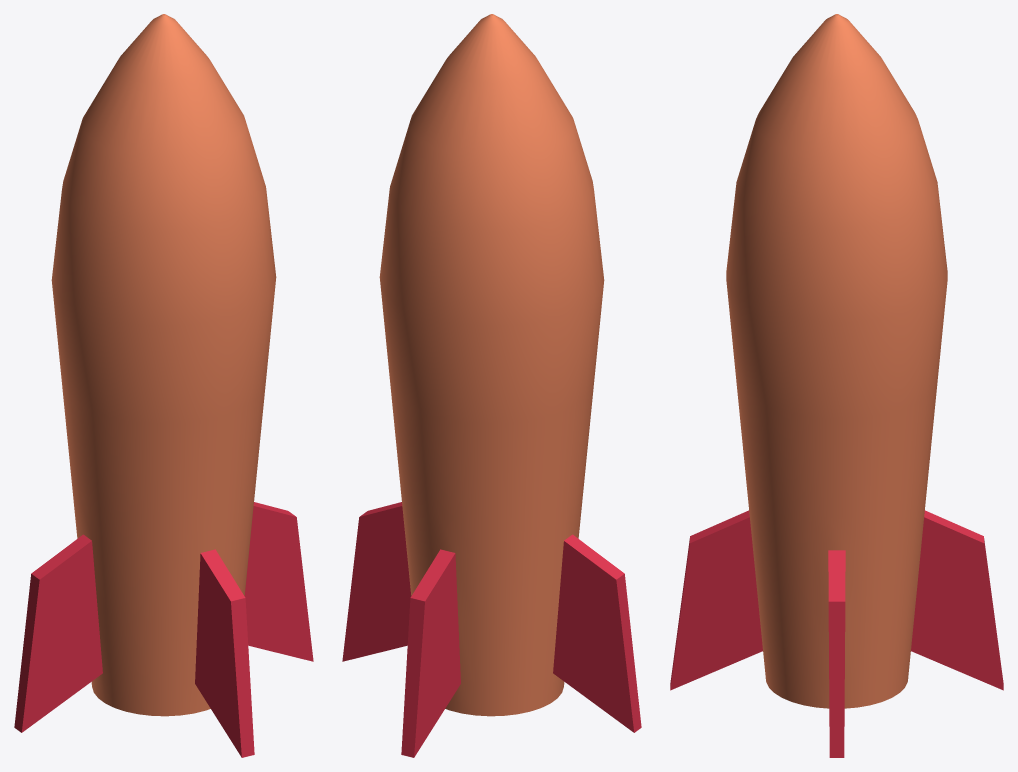
Rendered from Rocket.fbx.
3 views of the same model, side by side, from view 1: azimuth 30°, elevation 25°; view 2: azimuth 150°, elevation 25°; view 3: azimuth 270°, elevation 25° (orthographic).
Parts seen in each view (by area): view 1: Cylinder; view 2: Cylinder; view 3: Cylinder.
Part boxes in pixels (x1,y1,x2,y2): Cylinder: (14, 14, 313, 757); Cylinder: (342, 14, 641, 757); Cylinder: (670, 14, 1003, 757).
Bounding box in the file's own units: 1.5 × 3.34 × 1.5.
